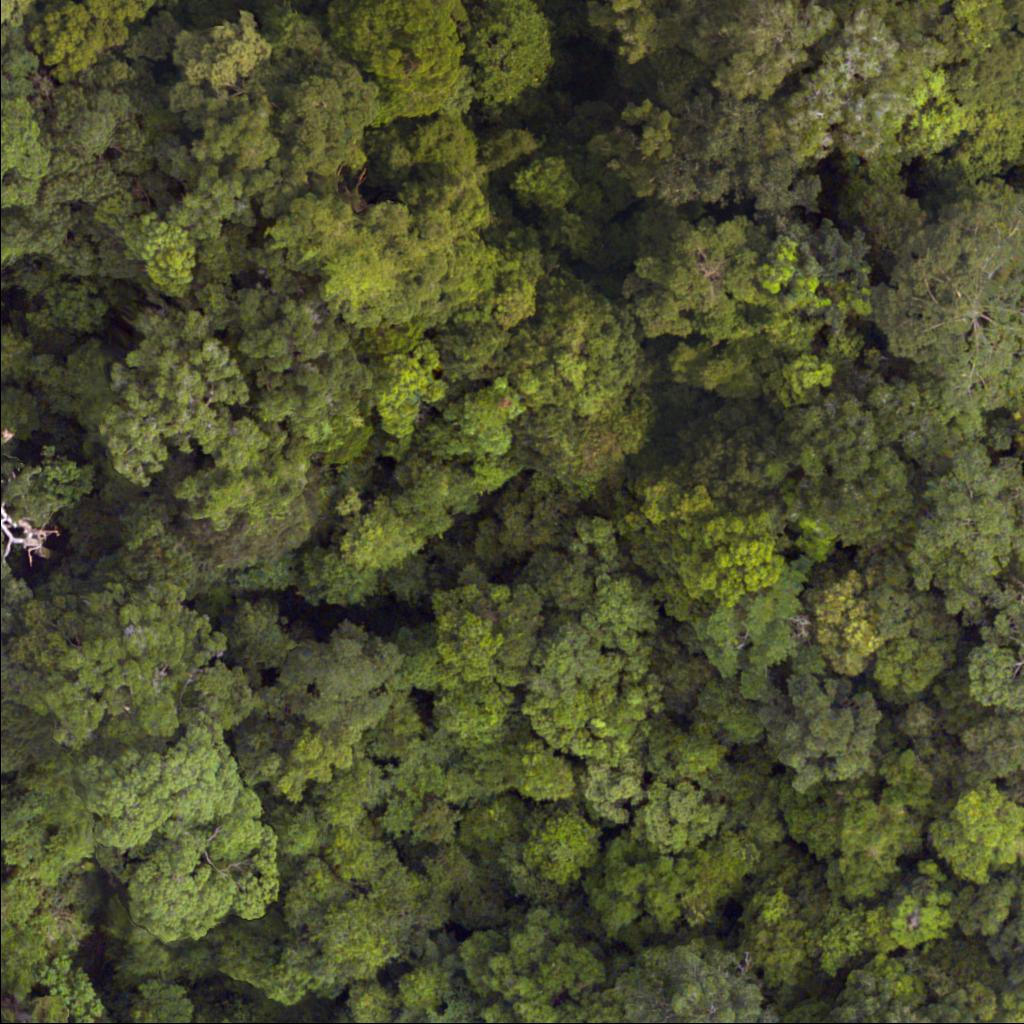crown: (79, 729, 272, 949), (7, 583, 220, 760), (891, 182, 1023, 439), (90, 314, 254, 498), (773, 757, 925, 906), (897, 449, 1023, 621), (260, 622, 407, 735), (768, 678, 885, 789), (0, 432, 75, 599), (616, 945, 767, 1023), (800, 955, 963, 1023), (927, 792, 1023, 889), (965, 860, 1023, 972)
